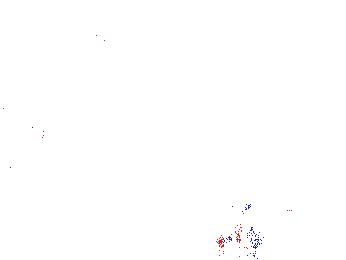flame jellyfish: (218, 197, 294, 254), (19, 75, 68, 140), (99, 175, 146, 226)
